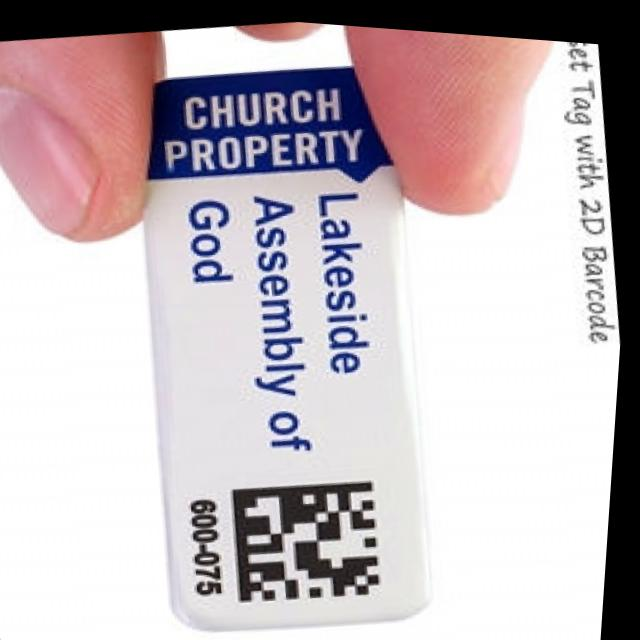datamatrix: (224, 459, 406, 616)
